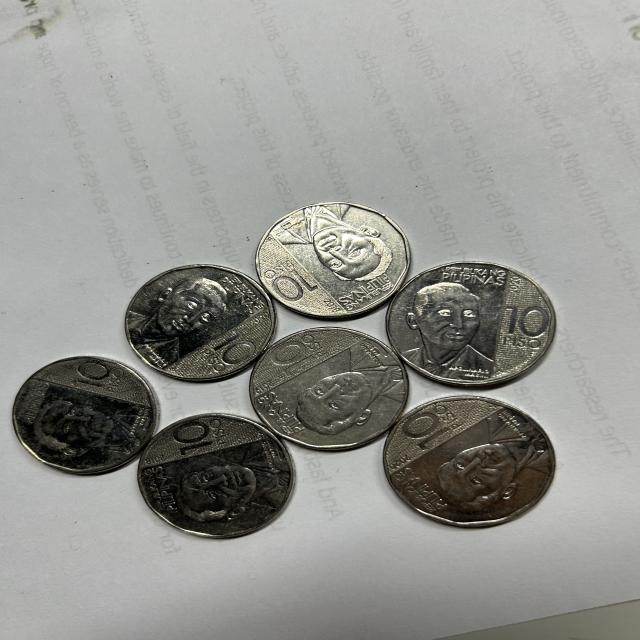10_New_Front: (259, 252, 319, 310), (499, 297, 554, 359), (397, 401, 460, 448), (210, 330, 266, 374), (277, 333, 330, 375), (72, 361, 121, 398), (165, 424, 225, 452)
